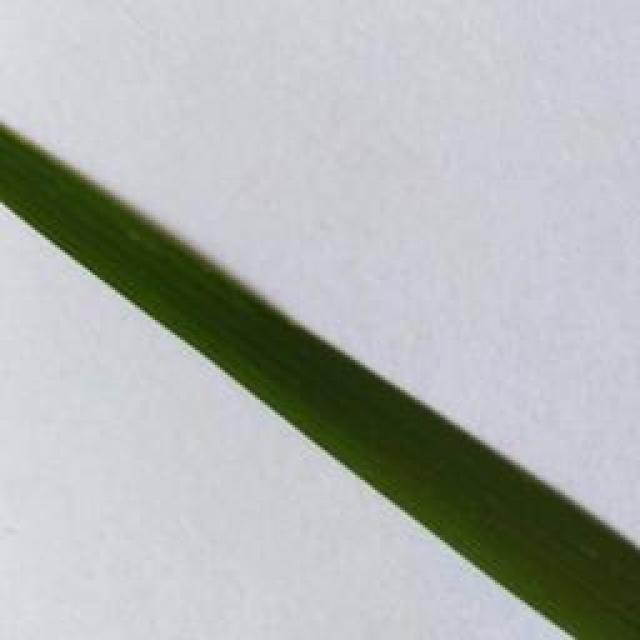Healthy: (0, 122, 640, 640)
